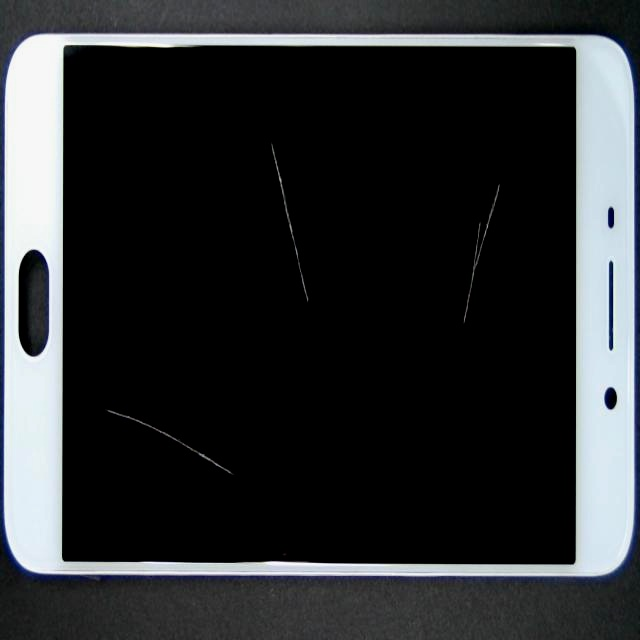scratch: (217, 200, 640, 507), (152, 197, 477, 467), (187, 265, 296, 640)
